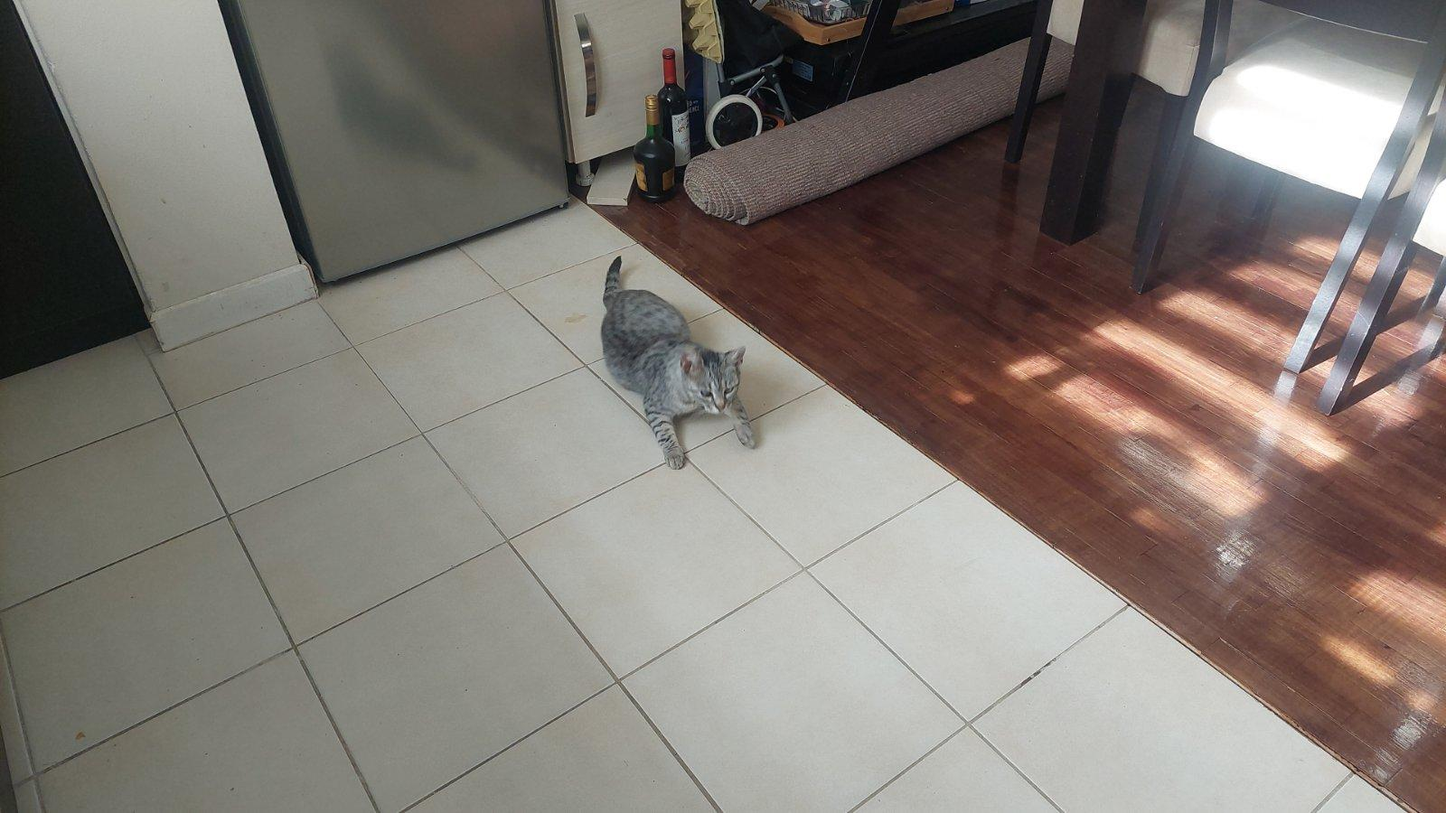macka: (600, 255, 756, 470)
